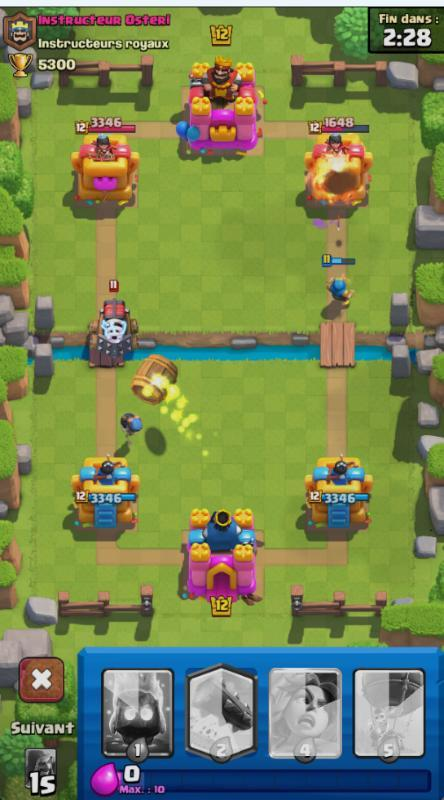enemy_sparky: (89, 293, 140, 354)
player_bomber: (111, 404, 146, 448)
player_goblin_barrel: (126, 351, 222, 462)
player_wizard: (317, 253, 360, 311)
